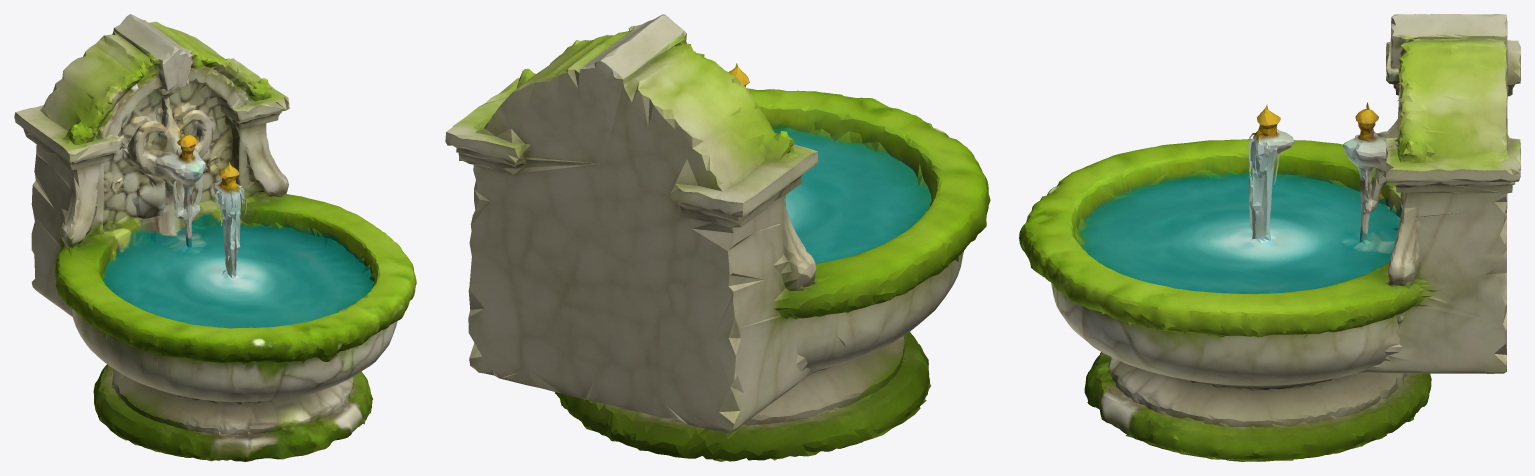
The model's file is fountain.glb.
The picture shows the model from 3 angles, left to right: view 1: azimuth 30°, elevation 25°; view 2: azimuth 150°, elevation 25°; view 3: azimuth 270°, elevation 25°; orthographic projection. The views are drawn at different scales.
Parts seen in each view (by area): view 1: Fountain; view 2: Fountain; view 3: Fountain.
Boxes of the visible parts, <box> form: Fountain: <box>14,14,416,461</box>; Fountain: <box>445,14,990,461</box>; Fountain: <box>1019,14,1520,461</box>.
Bounding box in the file's own units: 1.57 × 1.57 × 1.89.
Materials: 1 (1 with a texture image).
